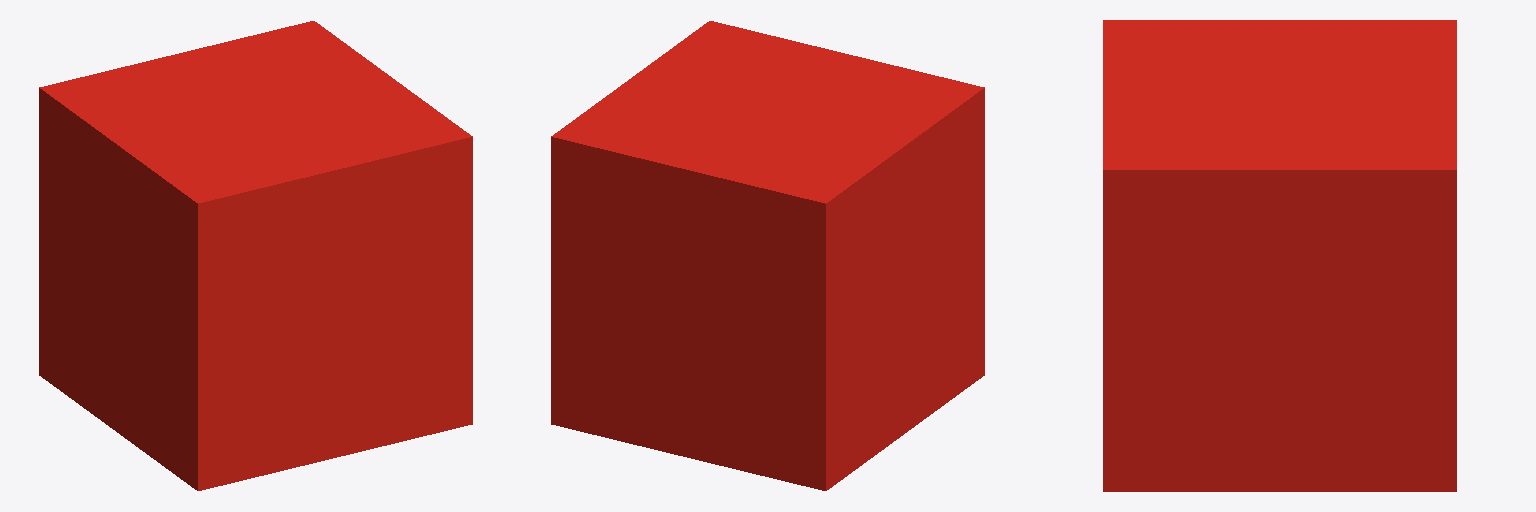
robot.urdf — block_red:
<?xml version="1.0"?>
<robot name="block_red">
  <link name="base_link">
    <inertial>
      <origin xyz="0 0 0.020000" rpy="0 0 0"/>
      <mass value="0.05"/>
      <inertia ixx="0.00001333" ixy="0" ixz="0" iyy="0.00001333" iyz="0" izz="0.00001333"/>
    </inertial>
    <visual>
      <origin xyz="0 0 0.020000" rpy="0 0 0"/>
      <geometry><box size="0.04 0.04 0.04"/></geometry>
      <material name="block_red_mat">
        <color rgba="0.9 0.2 0.15 1.0"/>
      </material>
    </visual>
    <collision>
      <origin xyz="0 0 0.020000" rpy="0 0 0"/>
      <geometry><box size="0.04 0.04 0.04"/></geometry>
    </collision>
  </link>
</robot>

--- What the picture shows (computed from the rendered views, not written in the file) ---
The picture shows the robot from 3 angles, left to right: view 1: azimuth 30°, elevation 25°; view 2: azimuth 150°, elevation 25°; view 3: azimuth 270°, elevation 25°; orthographic projection.
Robot: block_red — 1 links, 0 joints (none); root link base_link; default pose: all joints at 0.
Visible links, largest first — view 1: base_link; view 2: base_link; view 3: base_link.
Boxes of the visible links, x1=… form: base_link: x1=39, y1=21, x2=472, y2=490; base_link: x1=551, y1=21, x2=984, y2=490; base_link: x1=1103, y1=20, x2=1456, y2=491.
Size in the robot's own frame: 0.04 by 0.04 by 0.04 metres.
Geometry: primitives only (box / cylinder / sphere), no mesh files.
